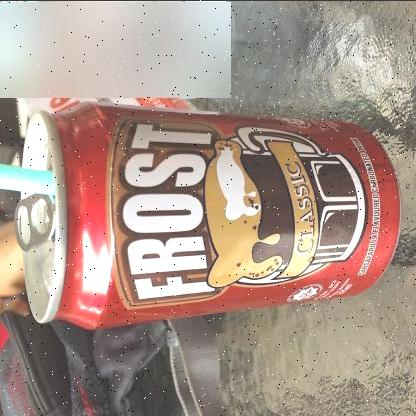Can: (15, 99, 400, 328)
